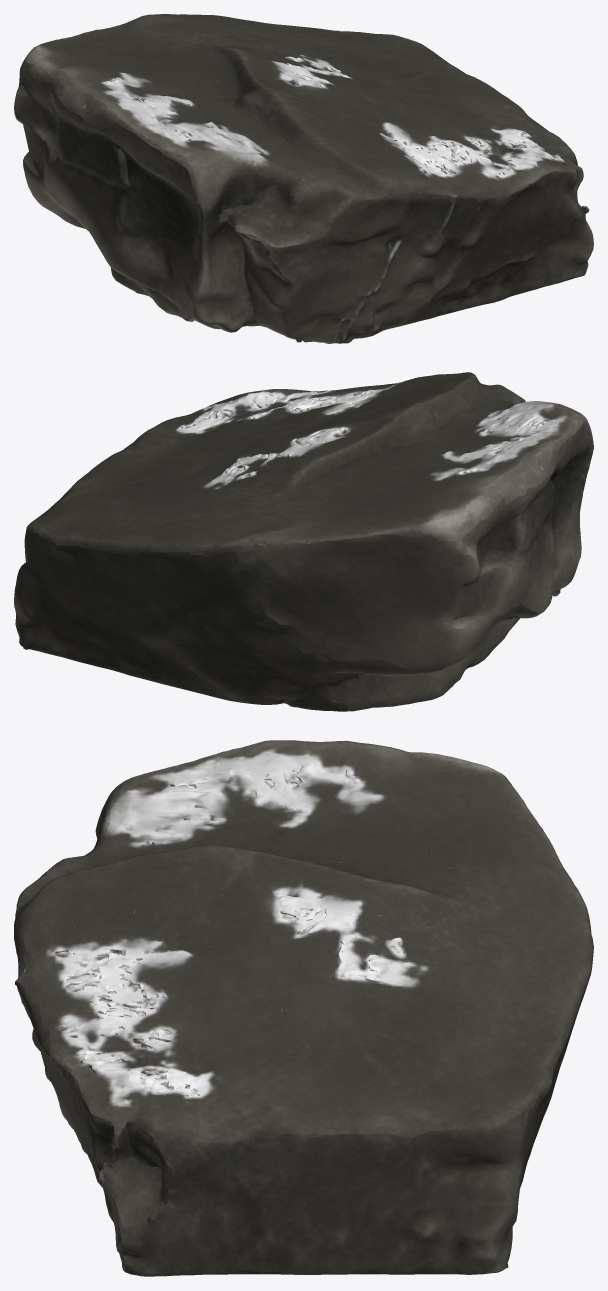
3 views of the same model, one above another, from view 1: azimuth 30°, elevation 25°; view 2: azimuth 150°, elevation 25°; view 3: azimuth 270°, elevation 25° (orthographic). The views are drawn at different scales.
Parts seen in each view (by area): view 1: world; view 2: world; view 3: world.
Boxes of the visible parts, x1,y1,x2,y2 form: world: [14, 14, 593, 343]; world: [14, 372, 593, 711]; world: [14, 740, 593, 1276].
Size of the model in its own units: 0.45 by 0.2216 by 0.4125.
Materials: 1 (1 with a texture image).
